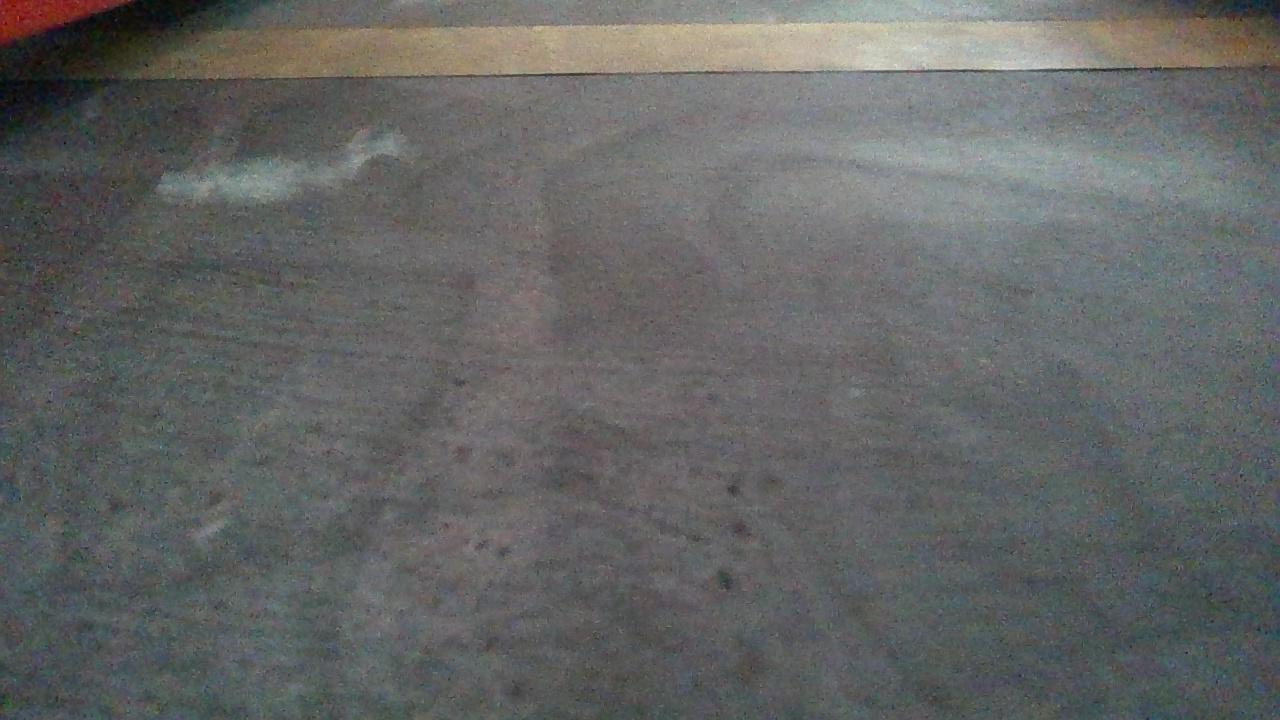yellow_line: (24, 9, 1280, 74)
